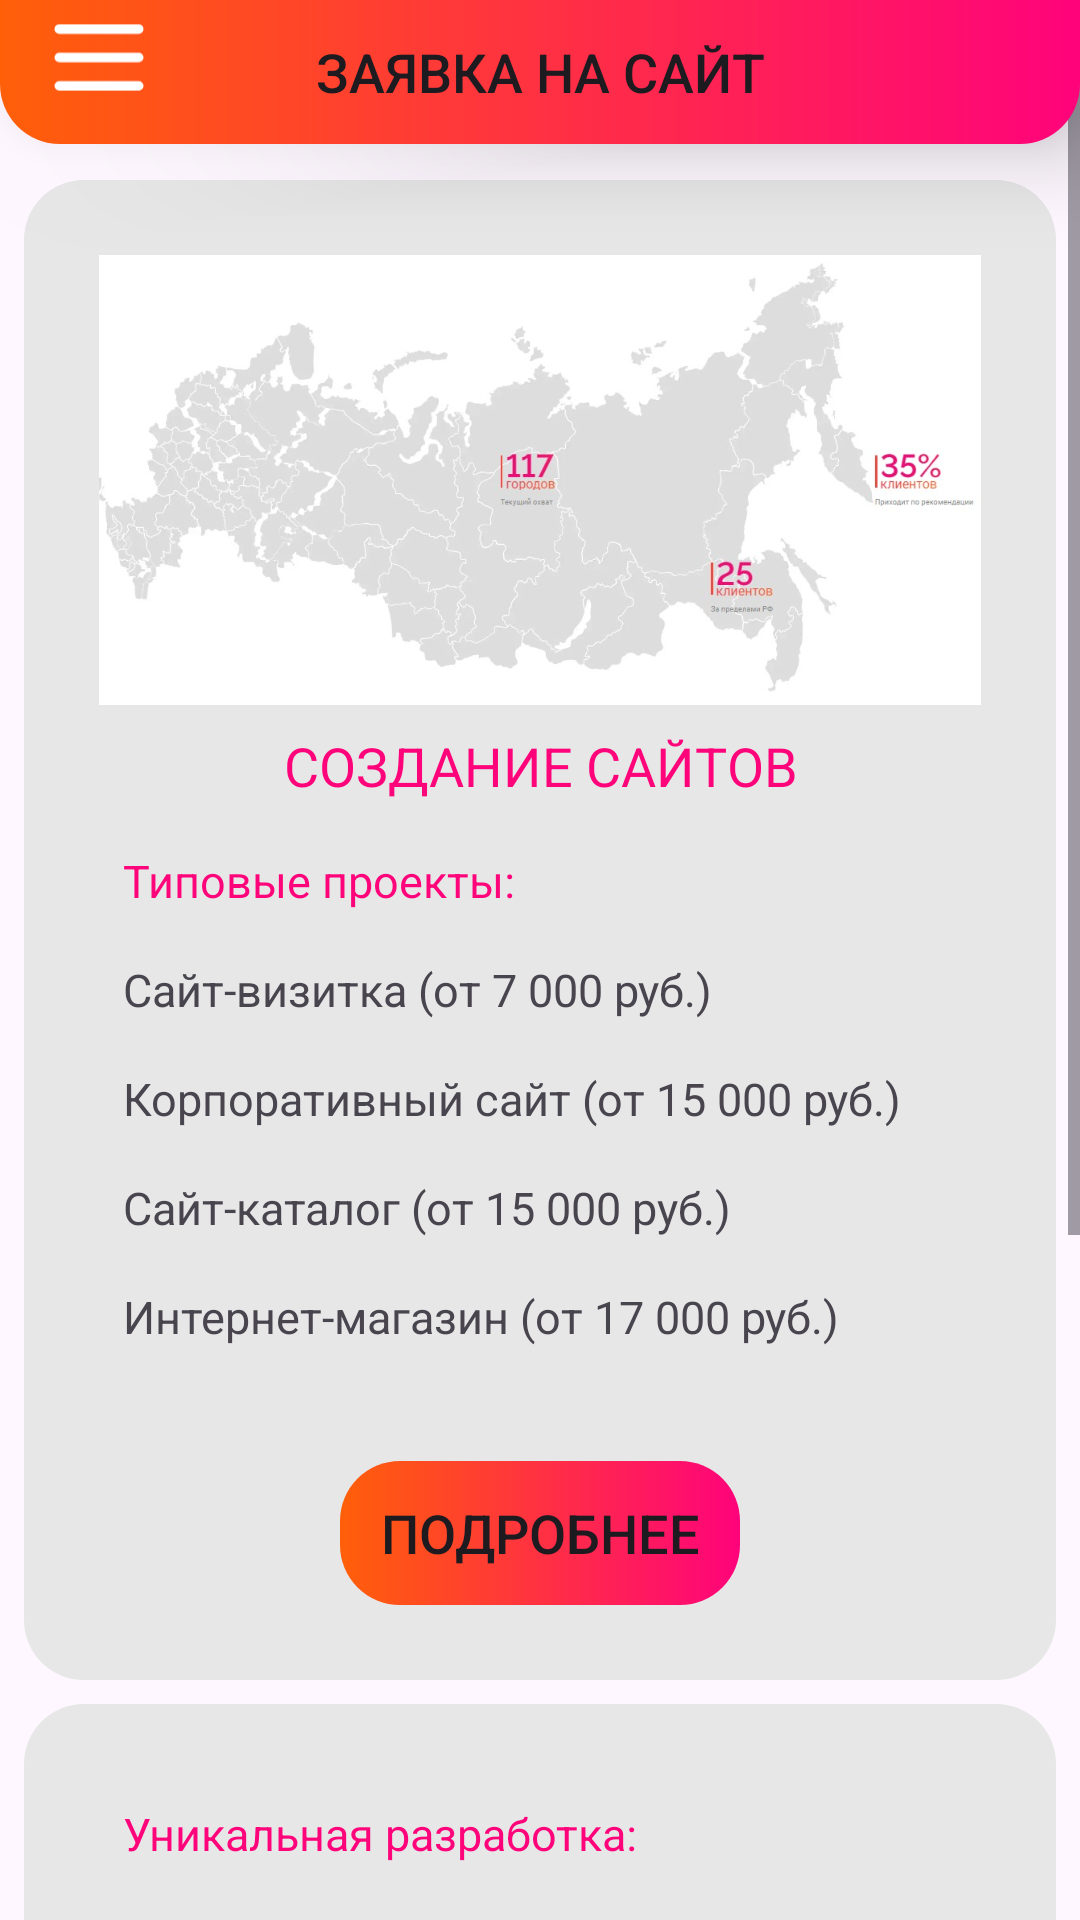

Icons on this 1080 x 1920 Android screen, each with its box as box(x1, y1, x2, y2):
burger menu: box(54, 24, 144, 91)
